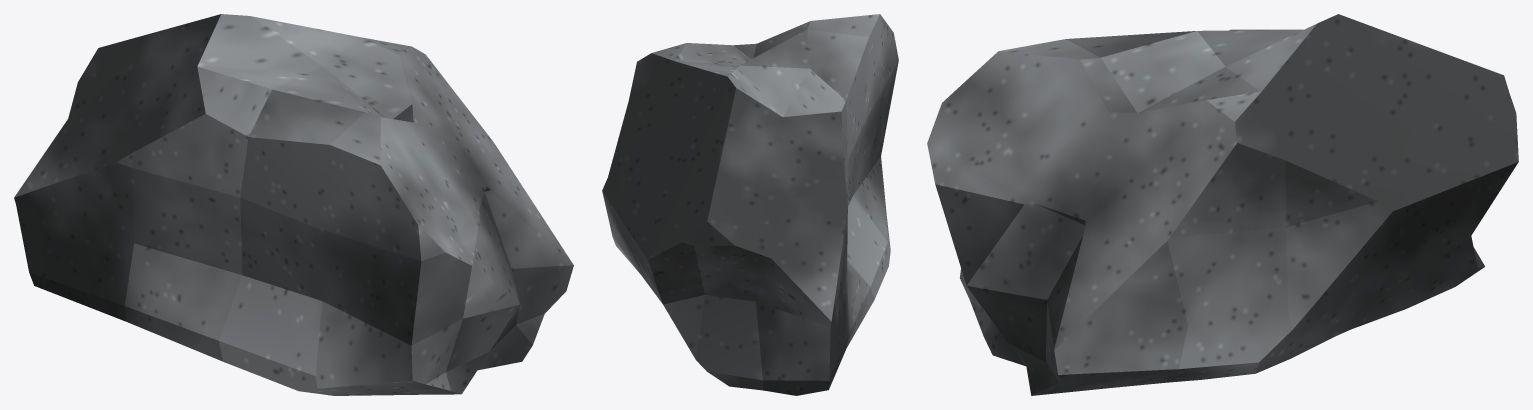
The model's file is rock_gigantic_01.glb.
The picture shows the model from 3 angles, left to right: view 1: azimuth 30°, elevation 25°; view 2: azimuth 150°, elevation 25°; view 3: azimuth 270°, elevation 25°; orthographic projection. The views are drawn at different scales.
Parts seen in each view (by area): view 1: rock_gigantic_1; view 2: rock_gigantic_1; view 3: rock_gigantic_1.
Boxes of the visible parts, x1,y1,x2,y2 form: rock_gigantic_1: (14, 14, 573, 395); rock_gigantic_1: (602, 14, 898, 395); rock_gigantic_1: (927, 14, 1518, 395).
Size of the model in its own units: 39.58 by 29.28 by 50.49.
1 material, 1 textured.
